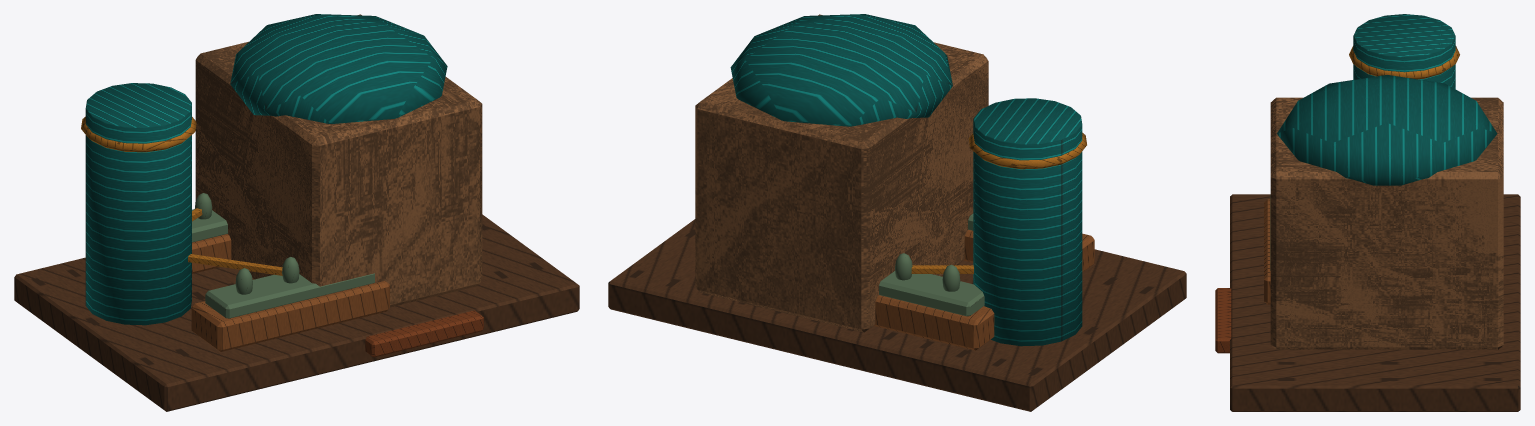
File: greenkeeper.glb
3 renders of one model, left to right at view 1: azimuth 30°, elevation 25°; view 2: azimuth 150°, elevation 25°; view 3: azimuth 270°, elevation 25°, orthographic. The views are drawn at different scales.
Visible parts, largest first — view 1: greenkeeper; view 2: greenkeeper; view 3: greenkeeper.
Boxes of the visible parts, x1,y1,x2,y2 form: greenkeeper: (14, 14, 579, 411); greenkeeper: (608, 14, 1186, 411); greenkeeper: (1215, 14, 1520, 411).
Size of the model in its own units: 5 by 2.96 by 3.34.
1 material, 1 textured.
